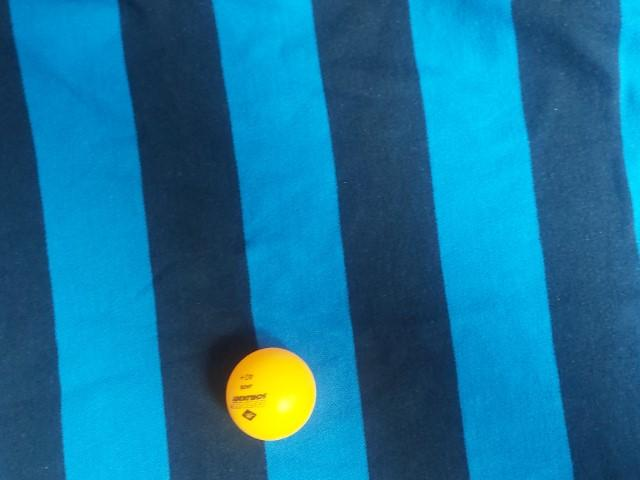oball: (318, 35, 422, 140)
